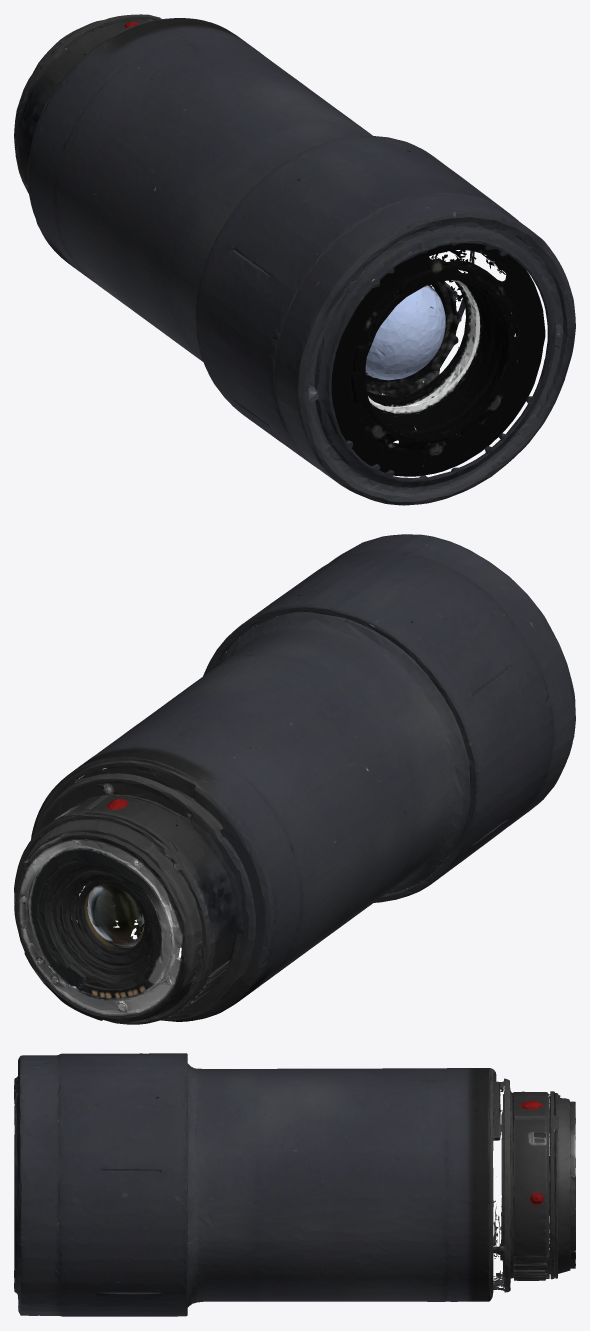
The model's file is refined.glb.
3 renders of one model, top to bottom at view 1: azimuth 30°, elevation 25°; view 2: azimuth 150°, elevation 25°; view 3: azimuth 270°, elevation 25°, orthographic. The views are drawn at different scales.
Visible parts, largest first — view 1: world; view 2: world; view 3: world.
Part boxes in pixels (x1,y1,x2,y2): world: [14, 14, 575, 505]; world: [14, 534, 575, 1024]; world: [14, 1053, 575, 1316].
Bounding box in the file's own units: 0.4777 × 0.4694 × 1.
1 material, 1 textured.
